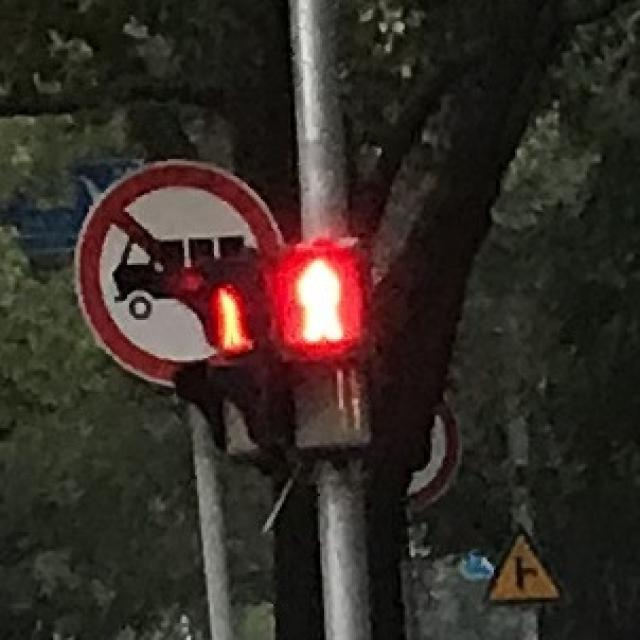red_light: (276, 248, 360, 356)
